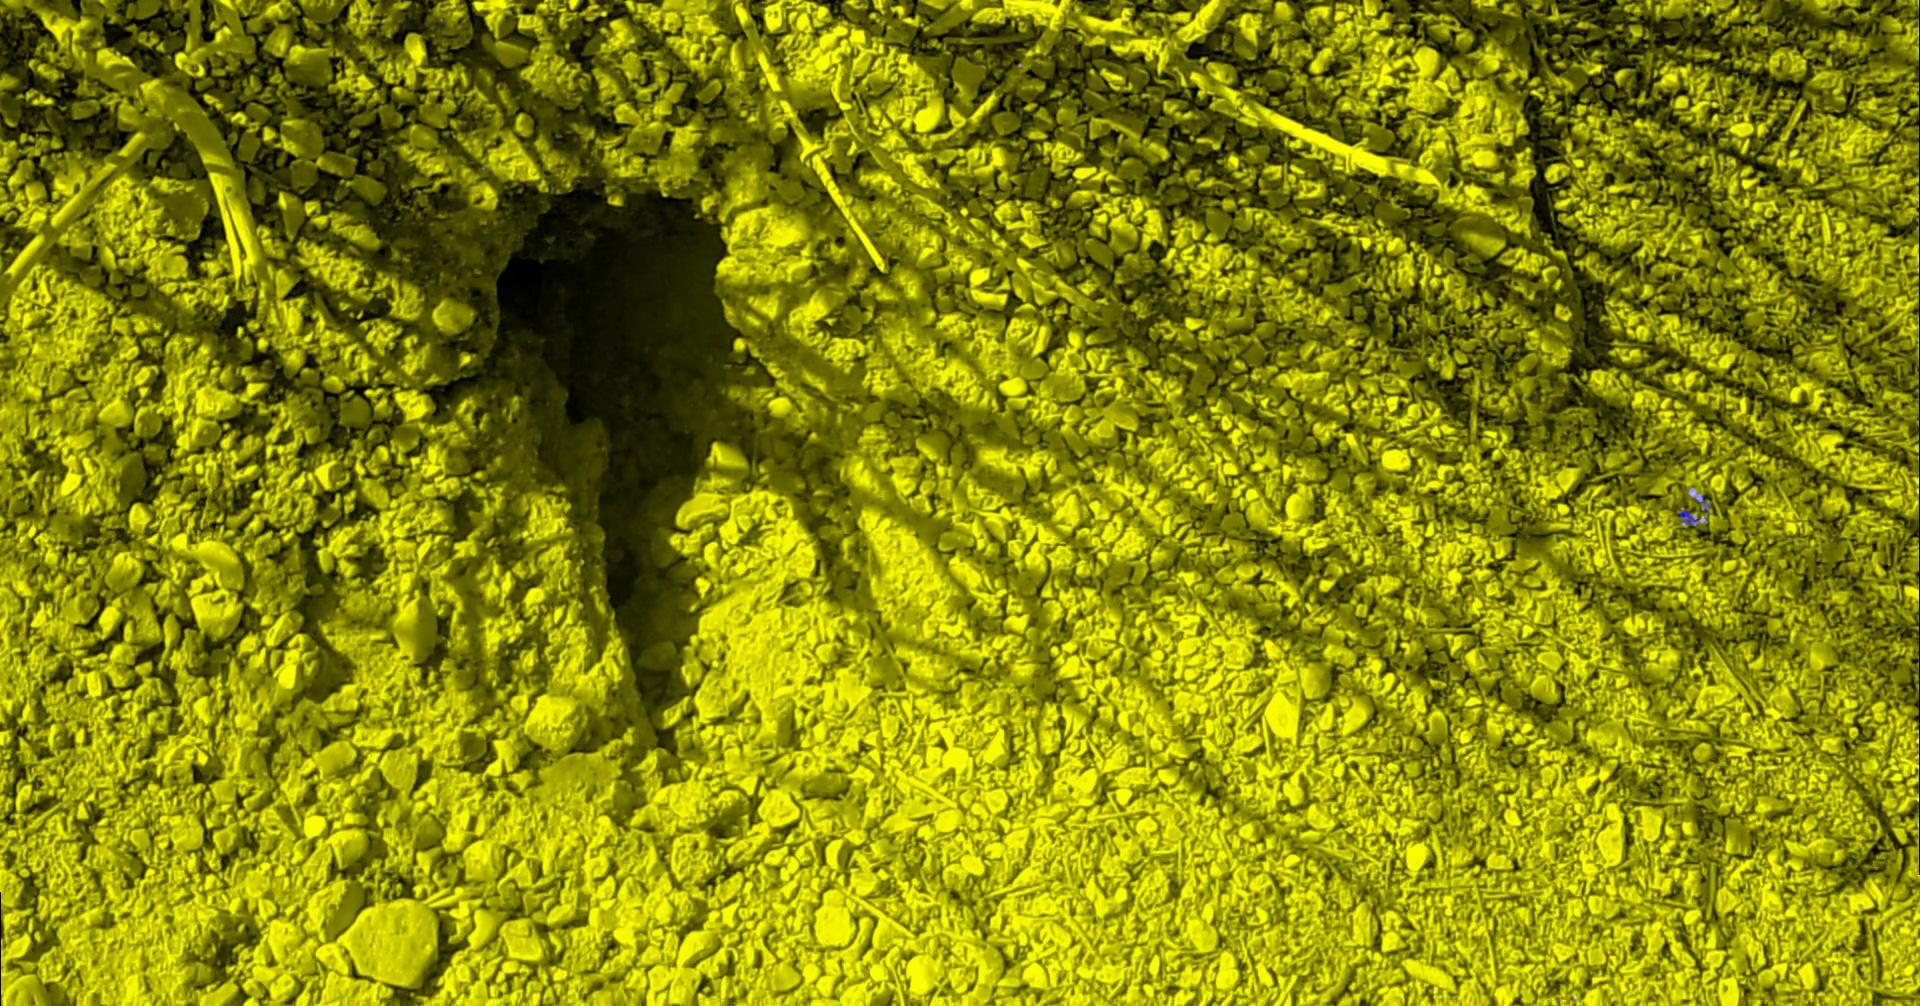ant: (1677, 506, 1700, 526), (1695, 495, 1710, 514)
